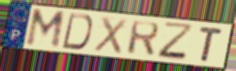D: (60, 12, 94, 51)
M: (24, 8, 67, 51)
R: (125, 19, 161, 58)
T: (198, 26, 224, 64)
X: (92, 15, 129, 56)
Z: (156, 21, 196, 62)
